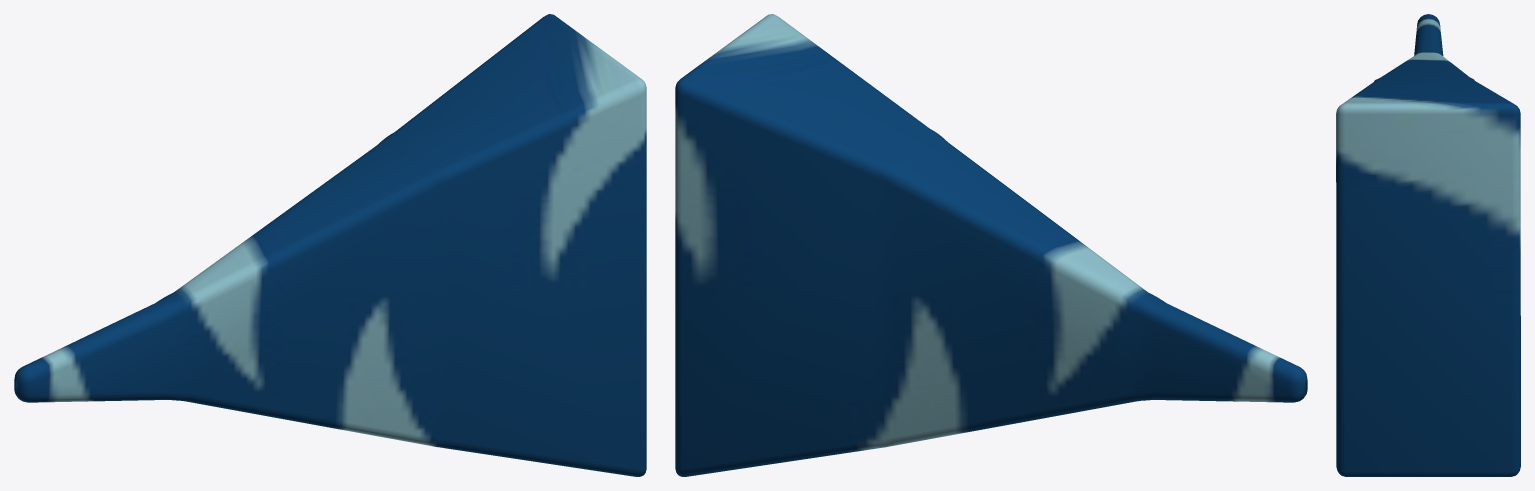
The model's file is Fish7_2.dae.
3 views of the same model, side by side, from view 1: azimuth 30°, elevation 25°; view 2: azimuth 150°, elevation 25°; view 3: azimuth 270°, elevation 25° (orthographic). The views are drawn at different scales.
Parts seen in each view (by area): view 1: Cube_Cube_002; view 2: Cube_Cube_002; view 3: Cube_Cube_002.
Boxes of the visible parts, <box> form: Cube_Cube_002: <box>14,14,646,476</box>; Cube_Cube_002: <box>675,14,1307,476</box>; Cube_Cube_002: <box>1336,14,1520,476</box>.
Bounding box in the file's own units: 2.08 × 0.6072 × 1.35.
2 materials, 2 textured.
